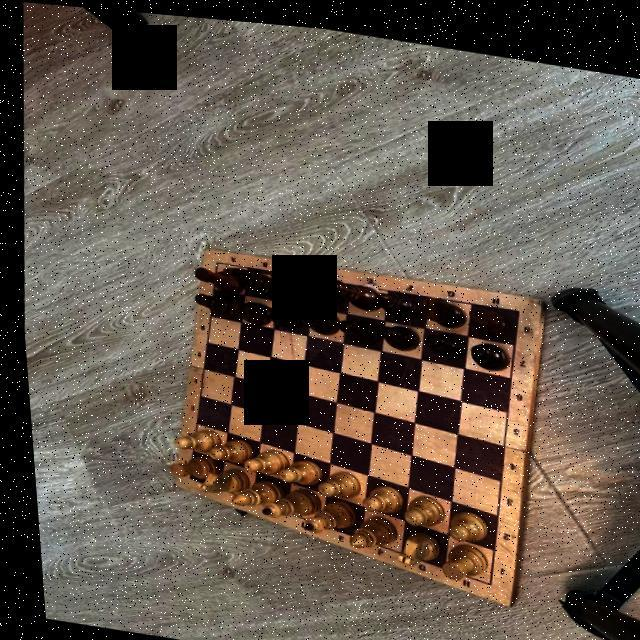chess-table-corners: (509, 299, 516, 305), (477, 572, 483, 578), (178, 473, 184, 478), (209, 256, 214, 261)
